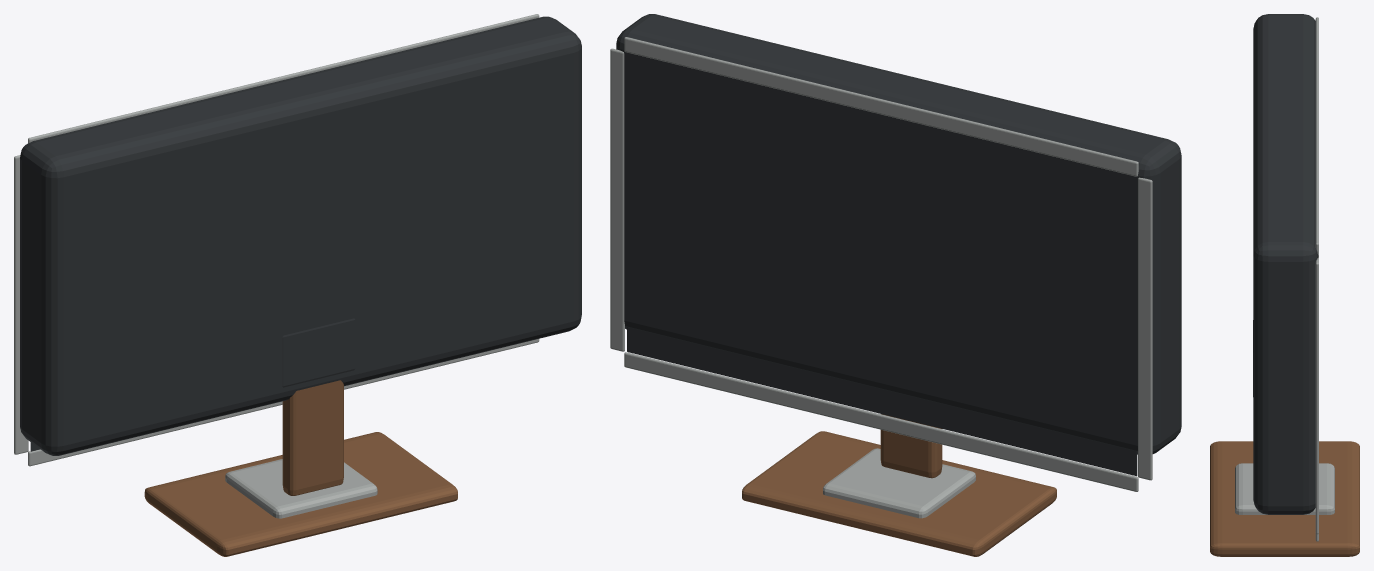
Rendered from monitor_library.glb.
3 views of the same model, side by side, from view 1: azimuth 30°, elevation 25°; view 2: azimuth 150°, elevation 25°; view 3: azimuth 270°, elevation 25° (orthographic). The views are drawn at different scales.
Visible parts, largest first — view 1: SM_Monitor_BackShell, SM_Monitor_BaseFoot, SM_Monitor_StandNeck, SM_Monitor_StandCollar, SM_Monitor_StandSocket, SM_Monitor_BezelTop, SM_Monitor_BezelBottom, SM_Monitor_BezelLeft; view 2: SM_Monitor_BackShell, SM_Monitor_BaseFoot, SM_Monitor_ScreenGlass, SM_Monitor_BezelBottom, SM_Monitor_BezelTop, SM_Monitor_StandCollar, SM_Monitor_BezelRight, SM_Monitor_BezelLeft, SM_Monitor_StandNeck; view 3: SM_Monitor_BackShell, SM_Monitor_BaseFoot, SM_Monitor_StandCollar, SM_Monitor_BezelRight, SM_Monitor_BezelTop.
Boxes of the visible parts, x1,y1,x2,y2 form: SM_Monitor_BackShell: [20, 16, 581, 455]; SM_Monitor_BaseFoot: [144, 432, 457, 556]; SM_Monitor_StandNeck: [282, 380, 343, 495]; SM_Monitor_StandCollar: [225, 459, 377, 518]; SM_Monitor_StandSocket: [282, 318, 355, 387]; SM_Monitor_BezelTop: [28, 14, 539, 143]; SM_Monitor_BezelBottom: [28, 339, 539, 466]; SM_Monitor_BezelLeft: [14, 155, 28, 454]; SM_Monitor_BackShell: [616, 14, 1181, 454]; SM_Monitor_BaseFoot: [742, 431, 1056, 556]; SM_Monitor_ScreenGlass: [627, 327, 1137, 476]; SM_Monitor_BezelBottom: [624, 352, 1138, 491]; SM_Monitor_BezelTop: [624, 37, 1138, 176]; SM_Monitor_StandCollar: [823, 448, 975, 518]; SM_Monitor_BezelRight: [610, 48, 624, 351]; SM_Monitor_BezelLeft: [1138, 177, 1152, 480]; SM_Monitor_StandNeck: [880, 414, 942, 478]; SM_Monitor_BackShell: [1253, 14, 1318, 514]; SM_Monitor_BaseFoot: [1210, 441, 1359, 556]; SM_Monitor_StandCollar: [1235, 463, 1334, 514]; SM_Monitor_BezelRight: [1315, 258, 1318, 534]; SM_Monitor_BezelTop: [1315, 17, 1318, 255].
Size of the model in its own units: 0.68 by 0.5 by 0.18.
